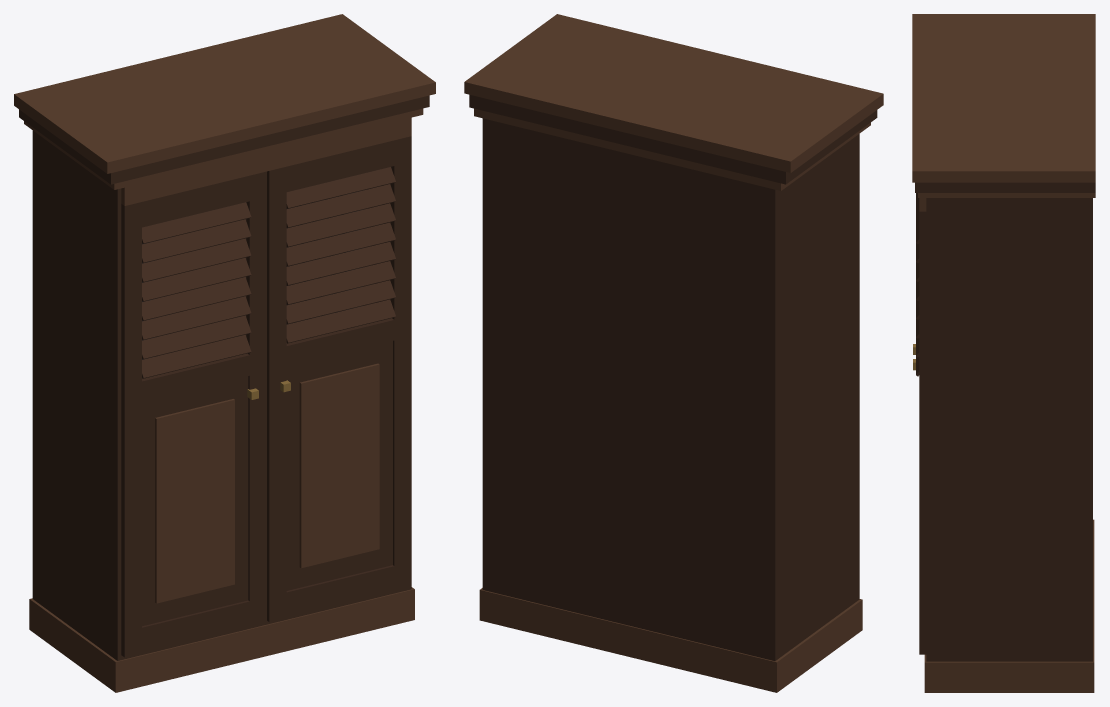
File: mourning_wardrobe.glb
3 renders of one model, left to right at view 1: azimuth 30°, elevation 25°; view 2: azimuth 150°, elevation 25°; view 3: azimuth 270°, elevation 25°, orthographic.
Visible parts, largest first — view 1: Door_L, Door_R, Side_L, Cornice, Plinth, FrontRail, Floor; view 2: Back, Side_L, Cornice, Plinth, Side_R, Floor, Top; view 3: Side_R, Cornice, Plinth, Door_R, Floor.
Part boxes in pixels (box(x1,y1,x2,y2)): Door_L: box(121, 171, 266, 657); Door_R: box(267, 136, 411, 622); Side_L: box(32, 130, 123, 660); Cornice: box(14, 14, 435, 189); Plinth: box(29, 587, 414, 692); FrontRail: box(121, 117, 411, 205); Floor: box(32, 587, 411, 660); Back: box(489, 120, 768, 659); Side_L: box(769, 134, 859, 660); Cornice: box(464, 14, 883, 190); Plinth: box(479, 588, 862, 692); Side_R: box(482, 118, 488, 587); Floor: box(482, 583, 859, 660); Top: box(482, 119, 776, 192); Side_R: box(926, 198, 1092, 661); Cornice: box(912, 14, 1095, 197); Plinth: box(924, 519, 1094, 692); Door_R: box(913, 193, 926, 654); Floor: box(926, 655, 1092, 661).
Size of the model in its own units: 1.34 by 2.1 by 0.66.
